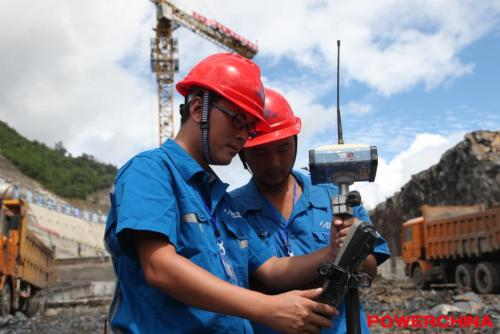hard-hat: (175, 51, 269, 126), (242, 85, 302, 148)
person: (103, 51, 350, 333), (225, 86, 391, 334)
vest: (102, 138, 258, 334), (225, 167, 391, 334)
